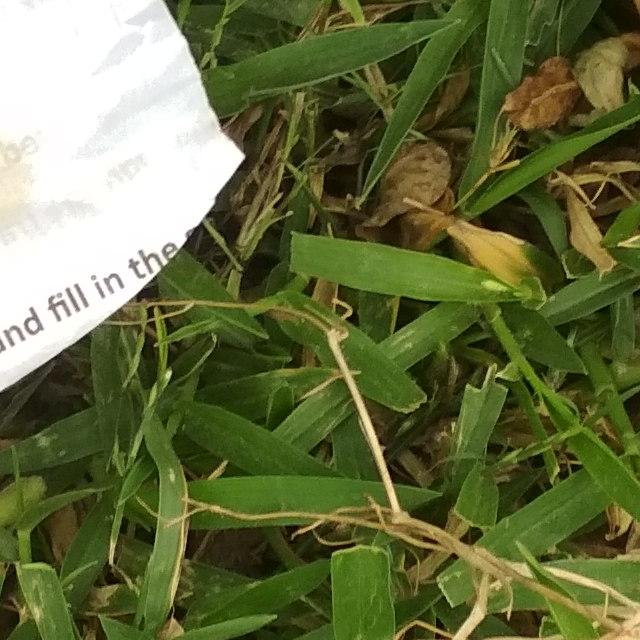paper: (0, 0, 291, 640)
